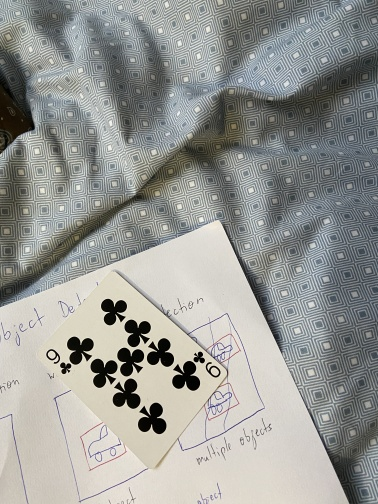nine: (35, 269, 229, 470)
